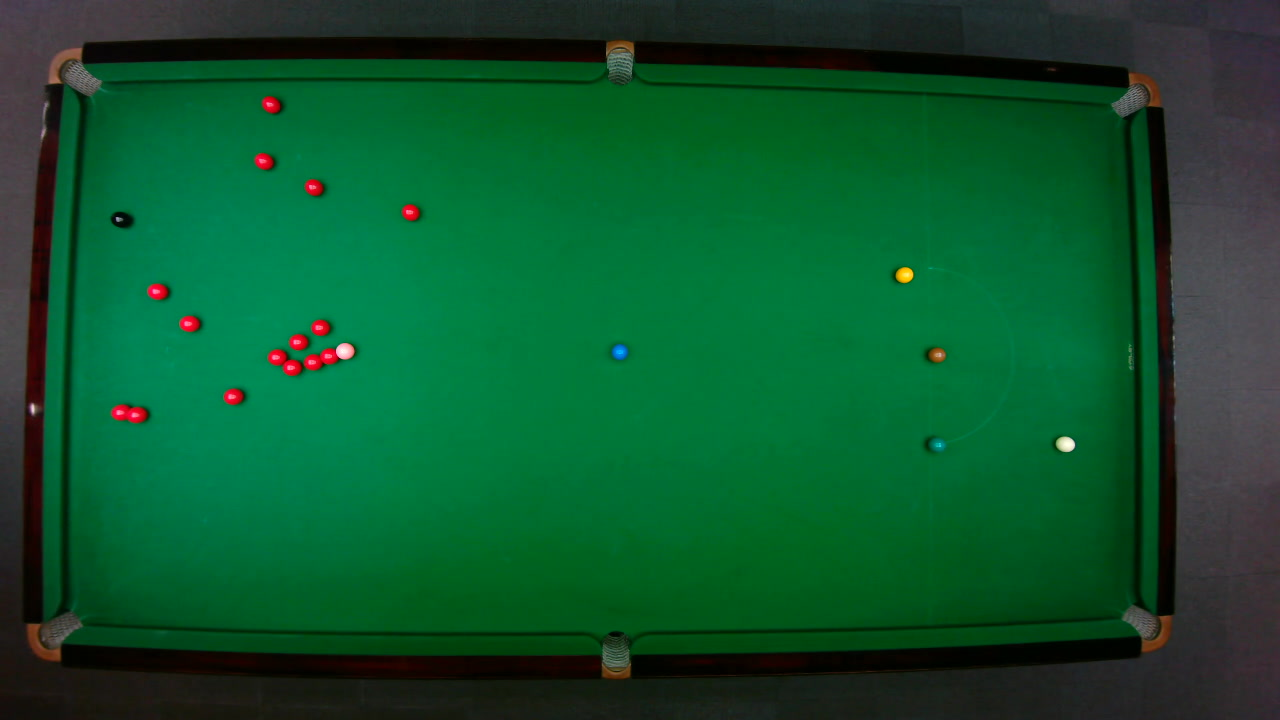bag: (25, 609, 83, 661), (45, 46, 102, 96), (1119, 603, 1171, 651), (1108, 71, 1161, 118), (600, 629, 629, 679), (605, 38, 633, 86)
black: (109, 210, 131, 228)
blue: (610, 342, 628, 360)
brown: (926, 346, 946, 362)
green: (926, 435, 946, 452)
pink: (334, 341, 355, 360)
red: (123, 404, 148, 423), (145, 281, 169, 300), (109, 402, 132, 421), (222, 386, 244, 405), (177, 314, 200, 332), (302, 178, 324, 196), (302, 352, 324, 370), (400, 202, 420, 221), (309, 318, 330, 336), (253, 152, 274, 170), (260, 95, 281, 113), (281, 358, 302, 376), (287, 332, 308, 350), (319, 346, 338, 365), (266, 348, 287, 365)
white: (1053, 434, 1076, 452)
yellow: (893, 265, 914, 283)
zone: (926, 266, 1013, 444)
